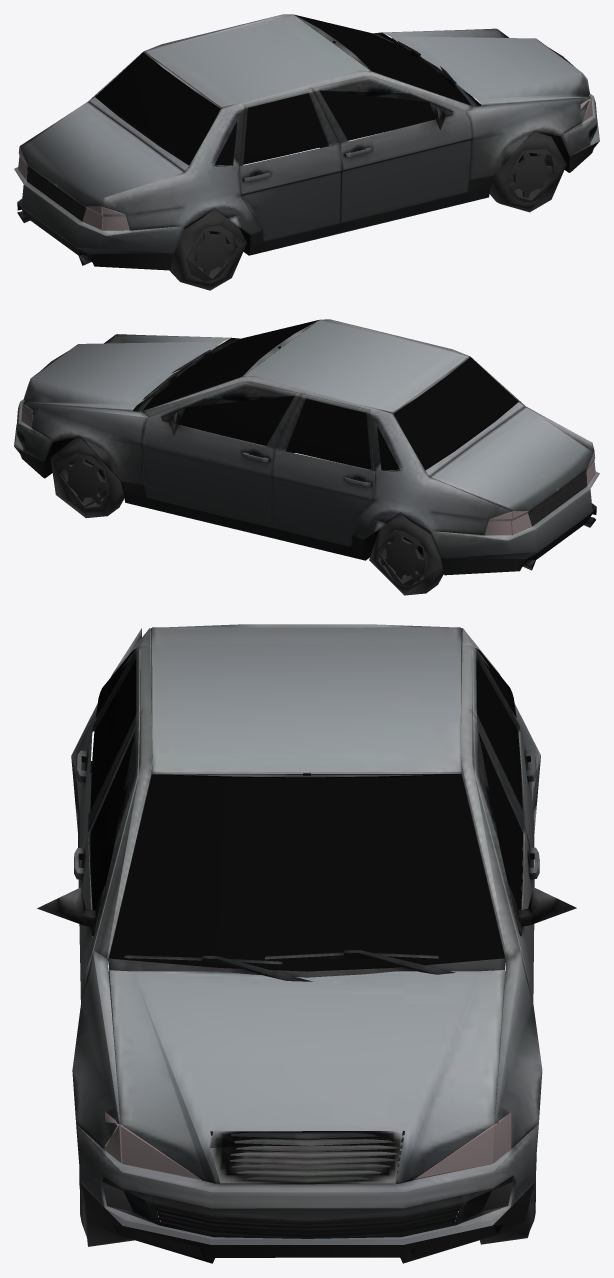
File: pc-sedan-silver.lod1.glb
3 views of the same model, one above another, from view 1: azimuth 30°, elevation 25°; view 2: azimuth 150°, elevation 25°; view 3: azimuth 270°, elevation 25° (orthographic). The views are drawn at different scales.
Parts seen in each view (by area): view 1: Sedan Body_Body_0, Sedan Body_Glass_0; view 2: Sedan Body_Body_0, Sedan Body_Glass_0; view 3: Sedan Body_Body_0, Sedan Body_Glass_0.
Boxes of the visible parts, x1,y1,x2,y2 form: Sedan Body_Body_0: [14, 14, 599, 270]; Sedan Body_Glass_0: [18, 14, 592, 290]; Sedan Body_Body_0: [14, 319, 599, 575]; Sedan Body_Glass_0: [21, 320, 595, 595]; Sedan Body_Body_0: [37, 624, 576, 1263]; Sedan Body_Glass_0: [78, 659, 536, 1246].
Size of the model in its own units: 4.33 by 1.31 by 1.92.
2 materials, 1 textured.
